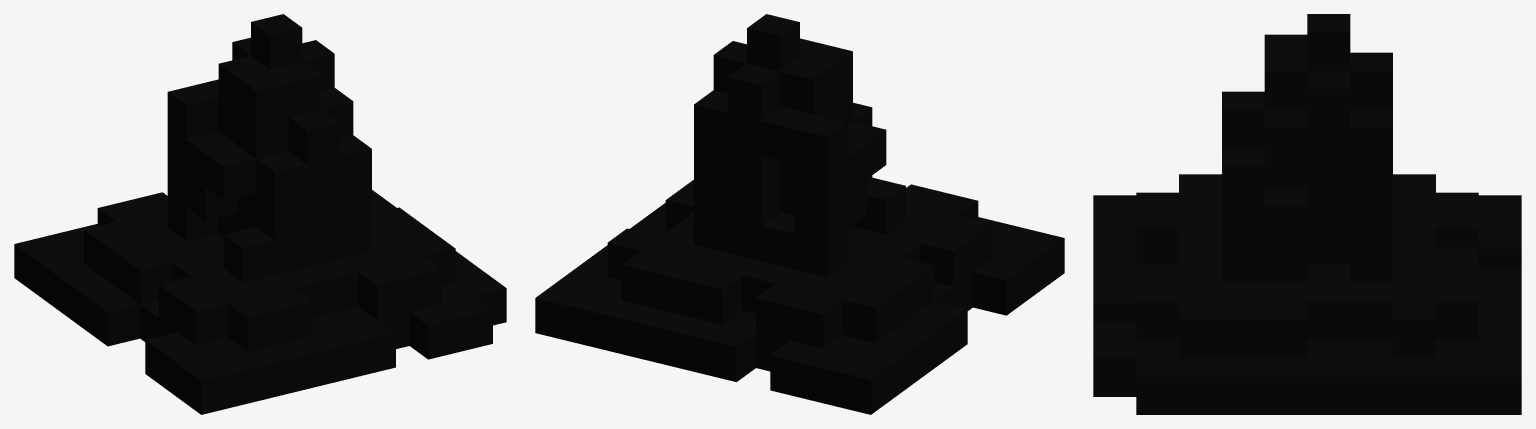
Rendered from church-5-catac_pillarsbroken.glb.
The picture shows the model from 3 angles, left to right: view 1: azimuth 30°, elevation 25°; view 2: azimuth 150°, elevation 25°; view 3: azimuth 270°, elevation 25°; orthographic projection. The views are drawn at different scales.
Parts seen in each view (by area): view 1: catac_pillarsbroken; view 2: catac_pillarsbroken; view 3: catac_pillarsbroken.
Part boxes in pixels (box(x1,y1,x2,y2)): catac_pillarsbroken: box(14, 14, 506, 414); catac_pillarsbroken: box(535, 14, 1064, 414); catac_pillarsbroken: box(1093, 14, 1521, 414).
Bounding box in the file's own units: 1 × 0.8 × 1.
1 material, 1 textured.
